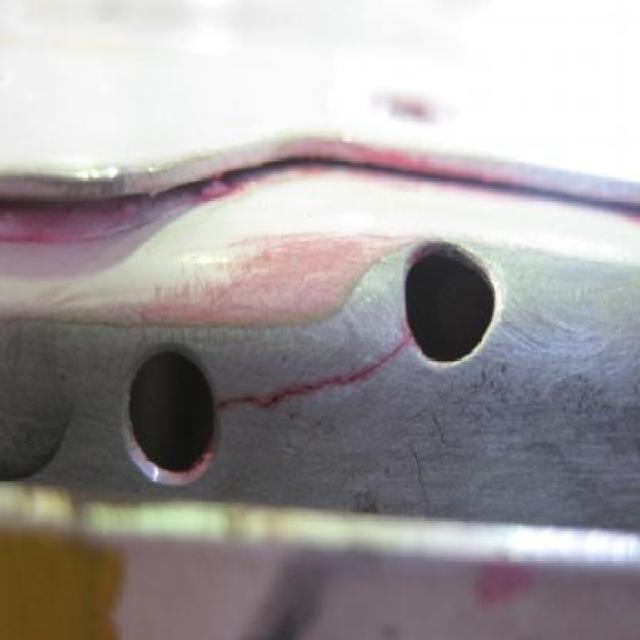crack: (213, 326, 418, 416)
